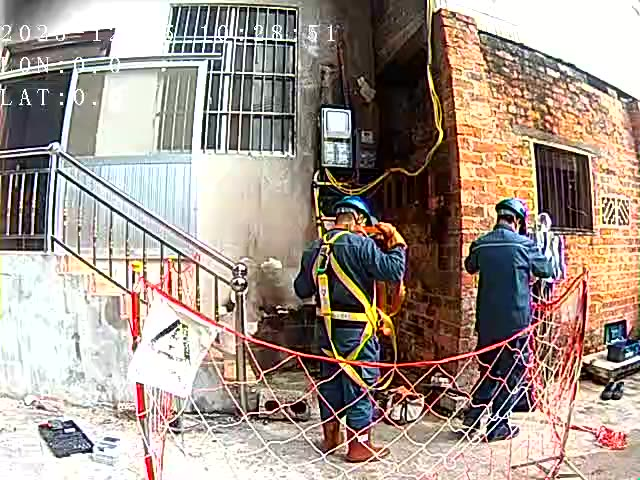halt: (335, 198, 377, 232), (496, 200, 532, 234)
inear: (351, 212, 369, 233)
